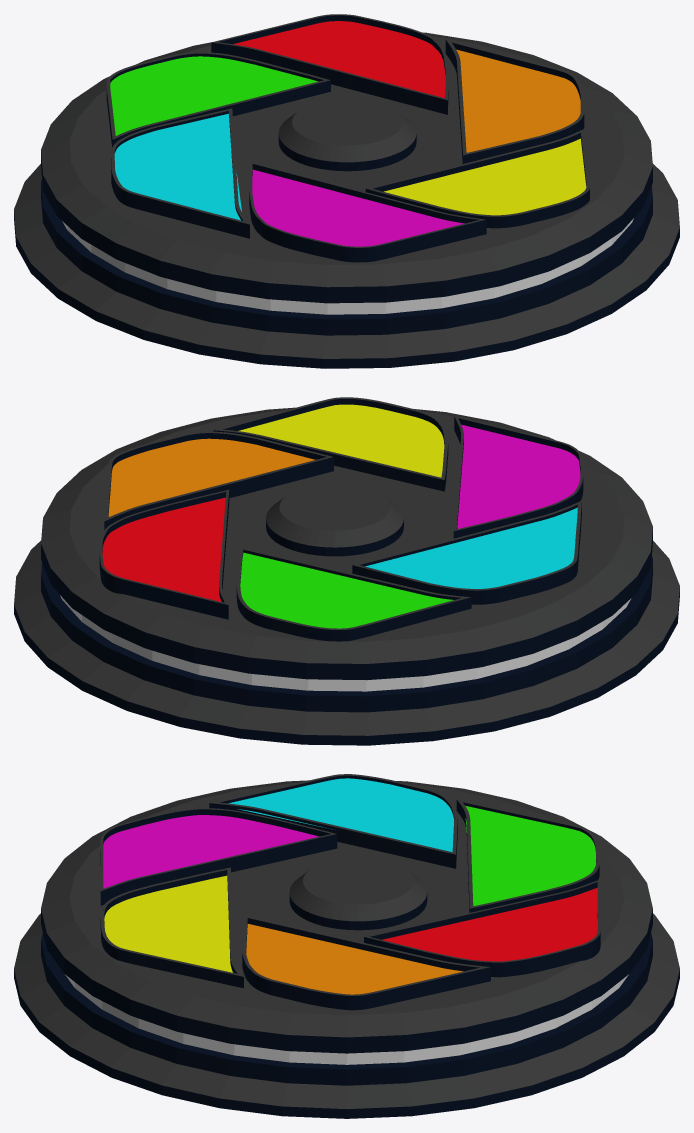
Rendered from simon2.fbx.
The picture shows the model from 3 angles, top to bottom: view 1: azimuth 30°, elevation 25°; view 2: azimuth 150°, elevation 25°; view 3: azimuth 270°, elevation 25°; orthographic projection.
Visible parts, largest first — view 1: Cube.028; view 2: Cube.028; view 3: Cube.028.
Part boxes in pixels (x1,y1,x2,y2): Cube.028: (14, 14, 679, 368); Cube.028: (14, 397, 679, 745); Cube.028: (14, 774, 679, 1118).
Size of the model in its own units: 611 by 101 by 611.
